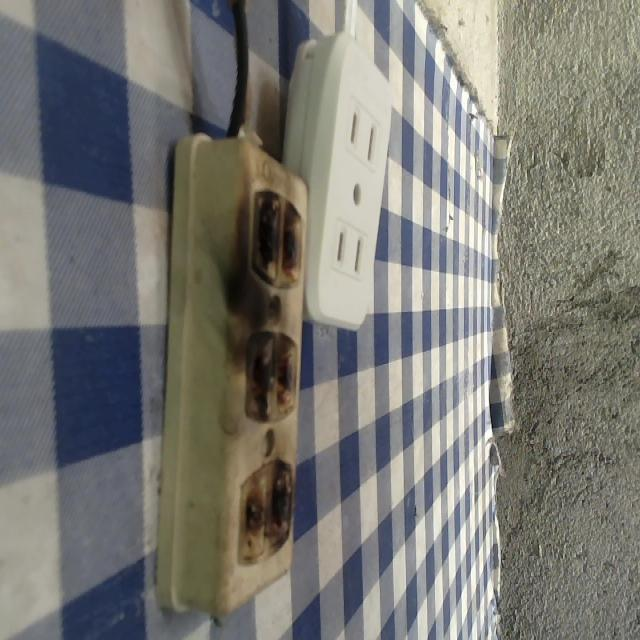-: (234, 456, 295, 564), (247, 183, 304, 288), (242, 323, 299, 424)
